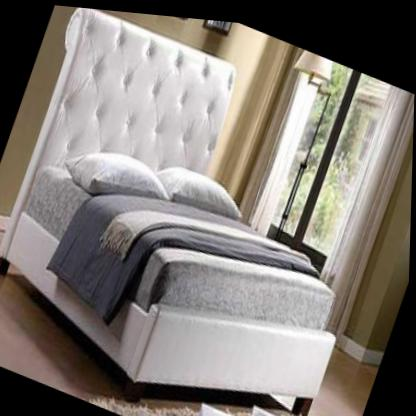Bed: (0, 6, 337, 409)
Curtains: (321, 77, 415, 333)
